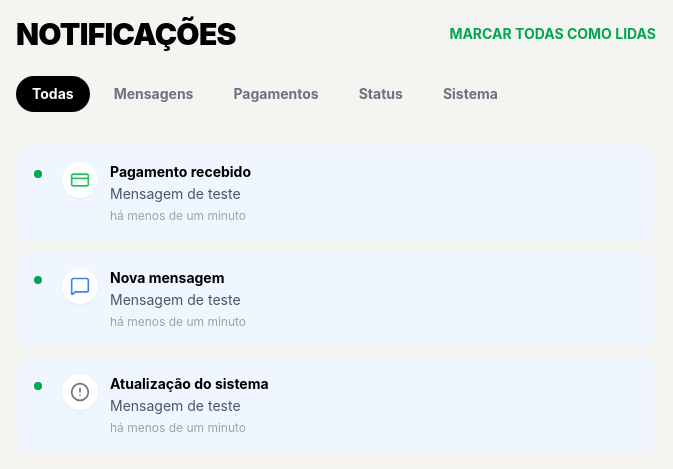
Scenario: Notifications page › filtro Pagamentos exibe apenas notificações com type=payment
expect the text "Pagamento recebido" is shown: met, box [110,163,251,180]
expect the text "Nova mensagem" is shown: met, box [110,269,224,286]
# Click "Pagamentos" filter
Click the button "Pagamentos" at (276, 94), box [218,76,335,112]
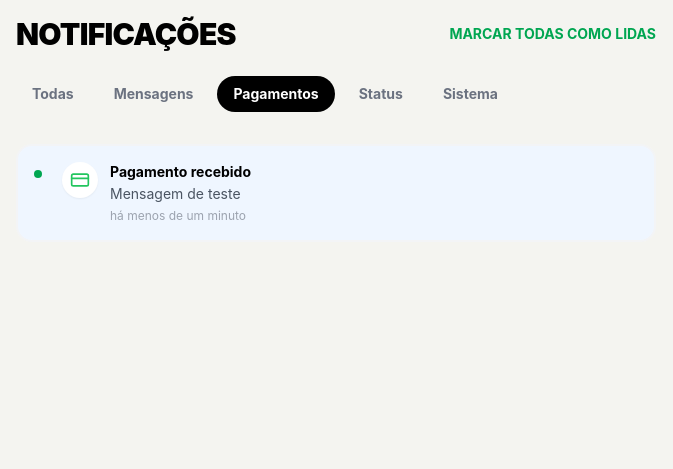
expect the text "Pagamento recebido" is shown: met, box [110,163,251,180]
expect the text "Nova mensagem" is gone: met
expect the text "Atualização do sistema" is gone: met
